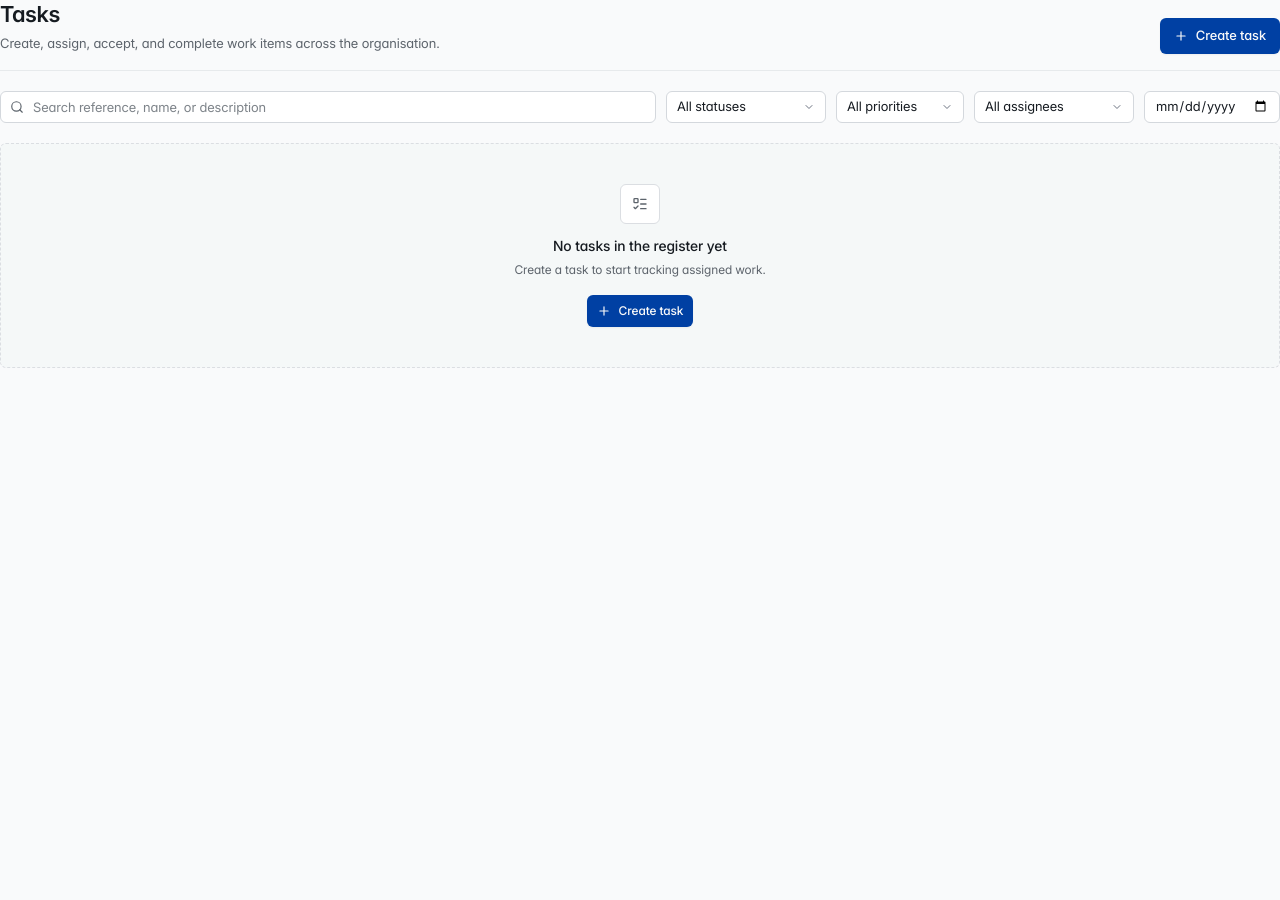
Test case: TasksListPage › opens create sheet from Create task
Expected: the text "No tasks in the register yet" is shown, x1=553 y1=237 x2=727 y2=254
Click the 1st button "Create task" at (1220,36), box x1=1160 y1=18 x2=1279 y2=54
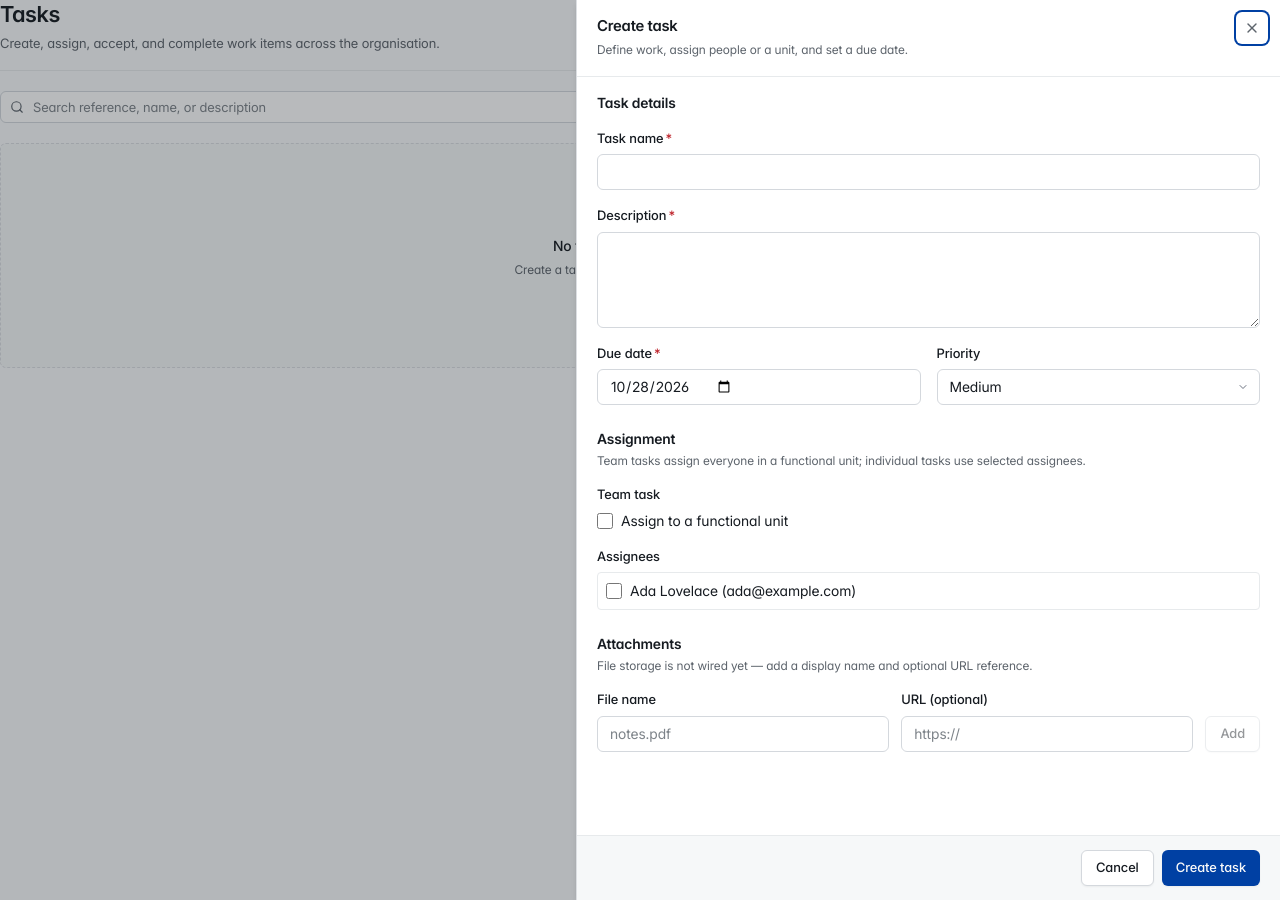
Expected: the heading "Create task" is shown, x1=597 y1=16 x2=678 y2=35
Expected: the text "Task name*" is shown, x1=597 y1=130 x2=672 y2=146
